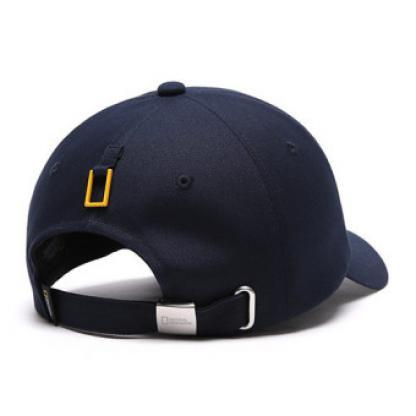cap: (14, 70, 392, 342)
